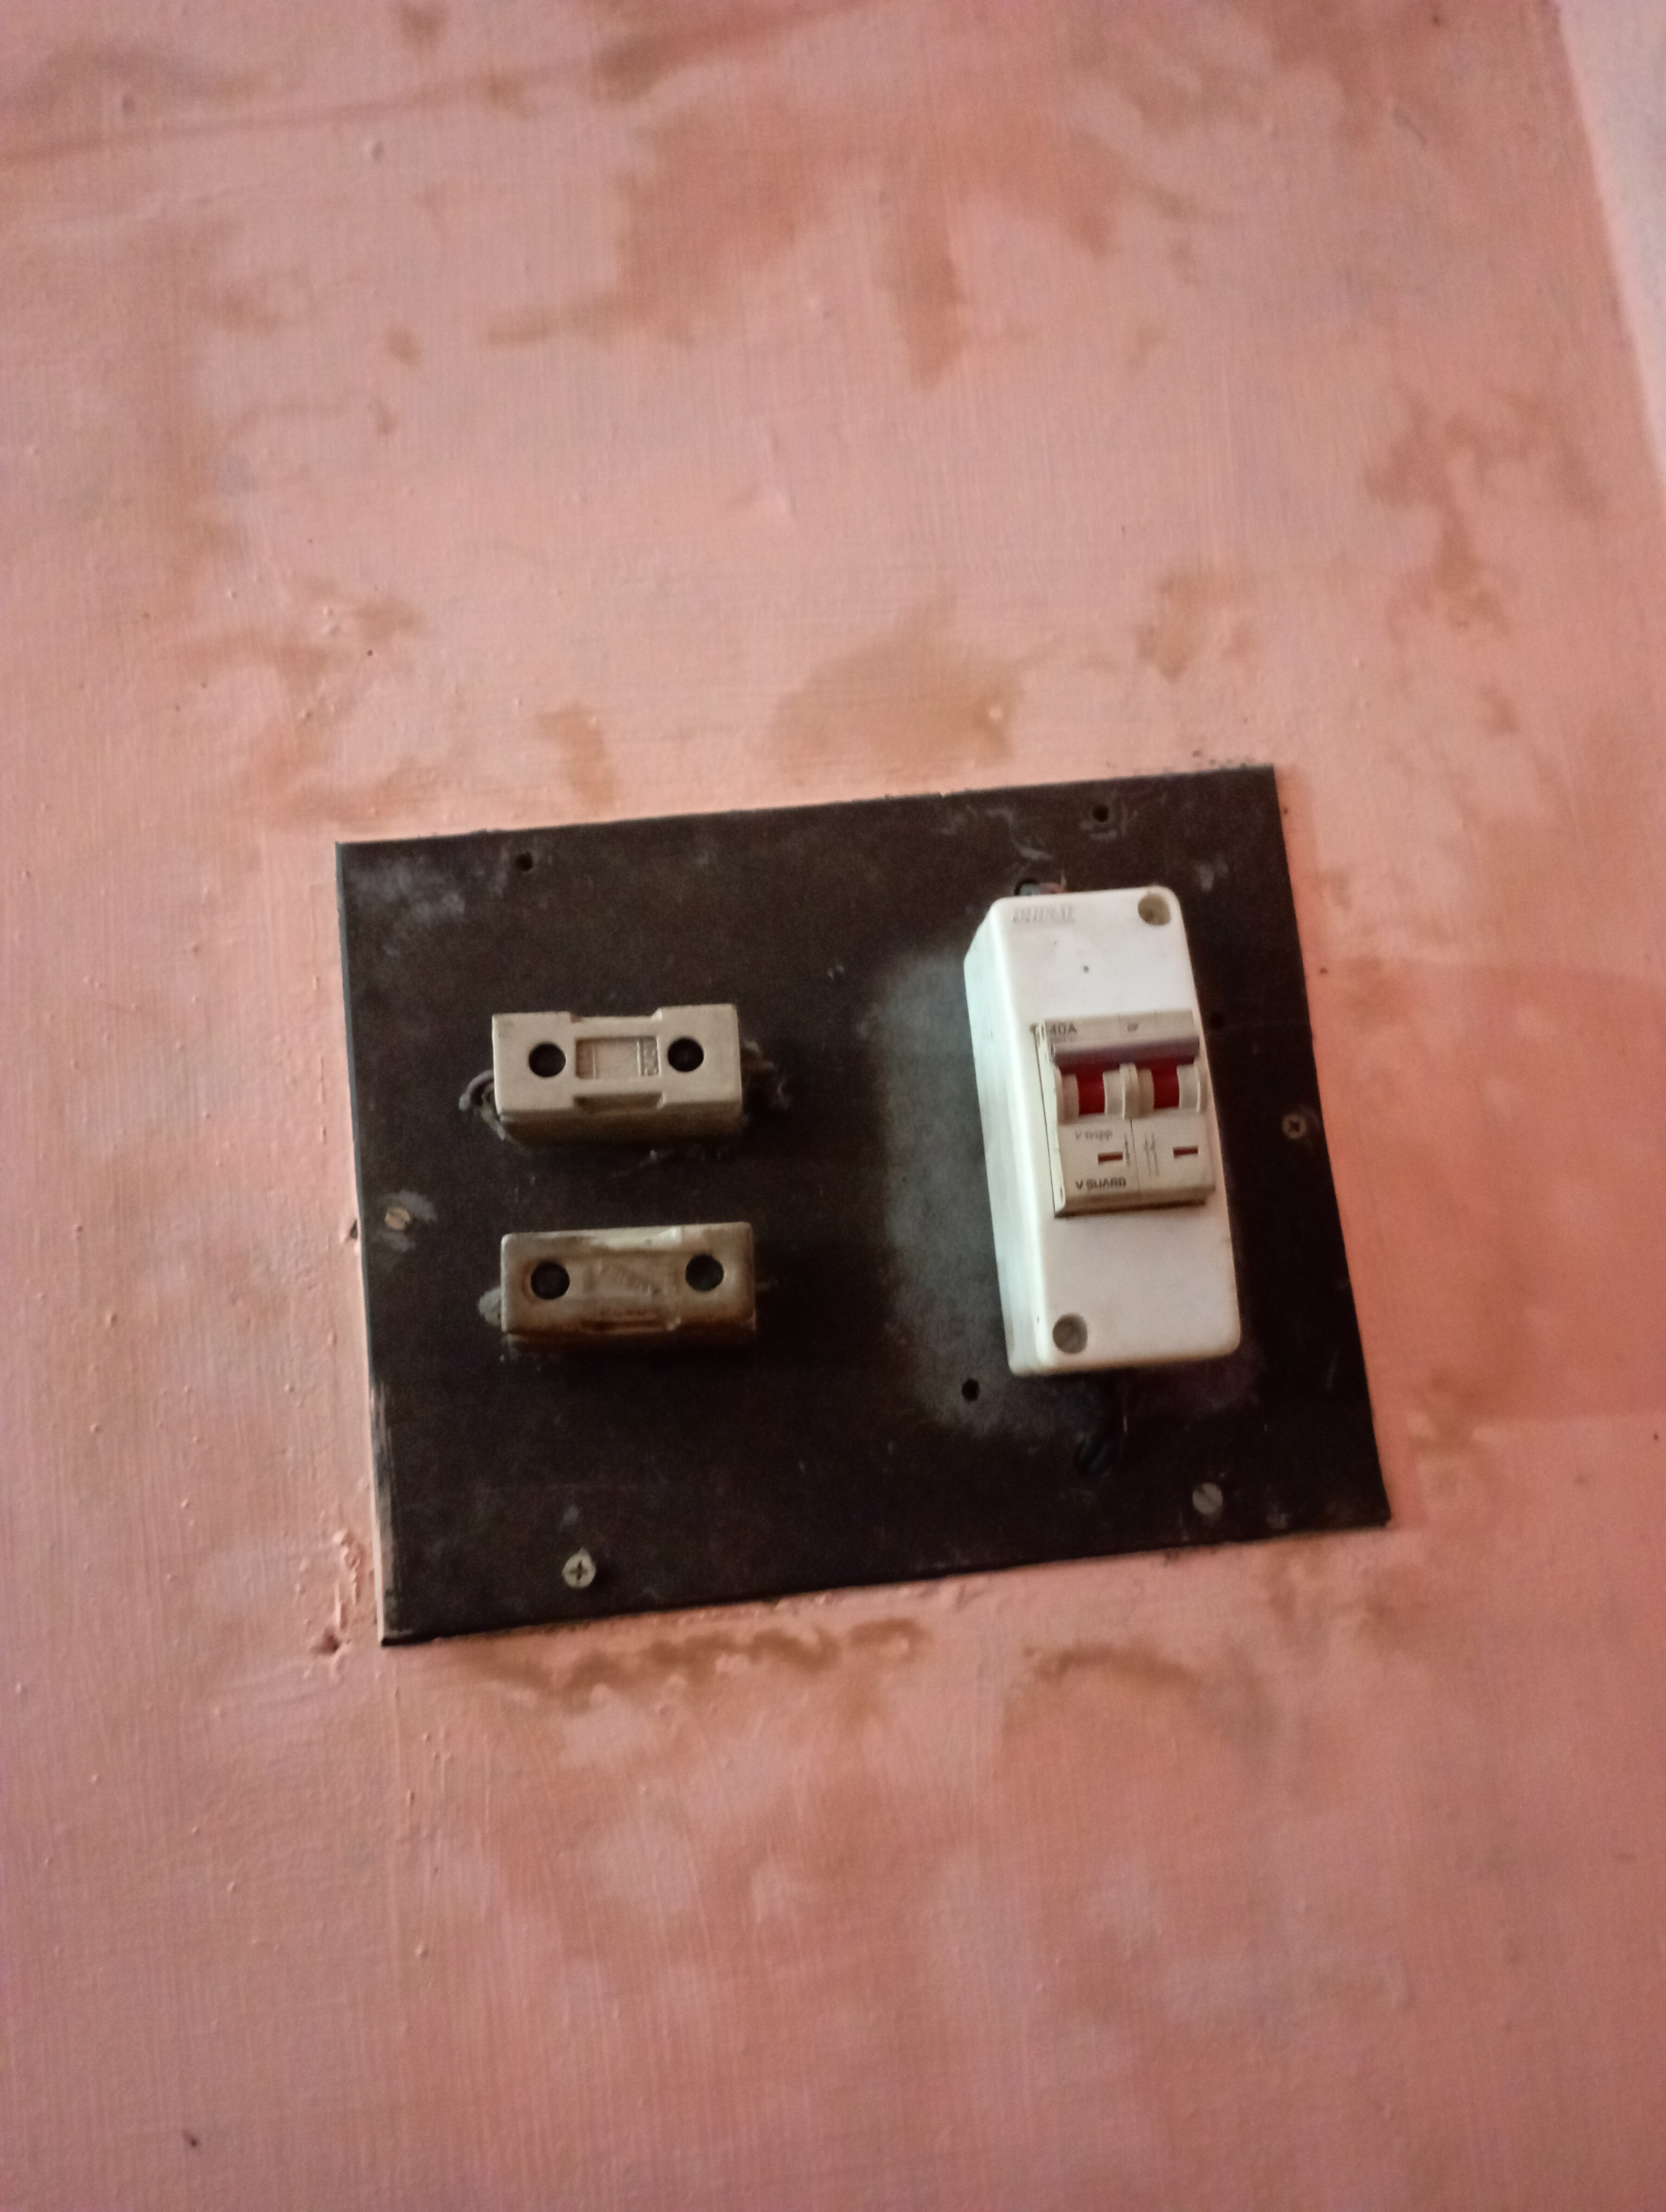ciruit_breaker: (952, 887, 1265, 1374)
fuse: (485, 1221, 772, 1366), (481, 1000, 763, 1124)
